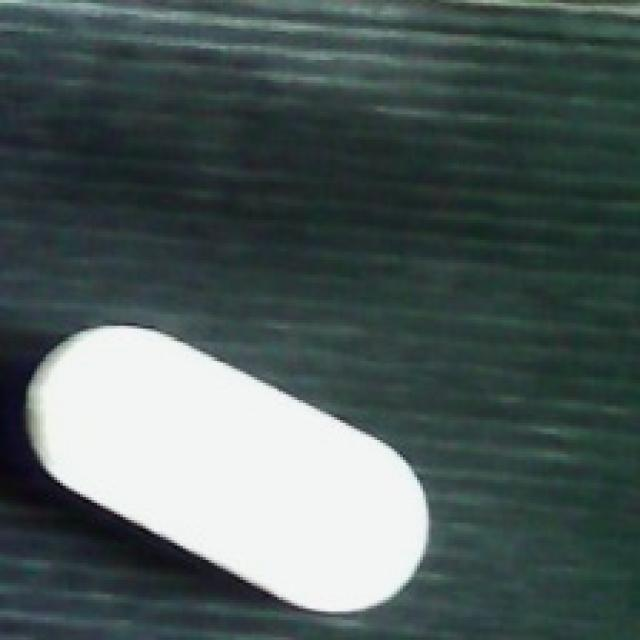no-defect: (20, 323, 434, 620)
